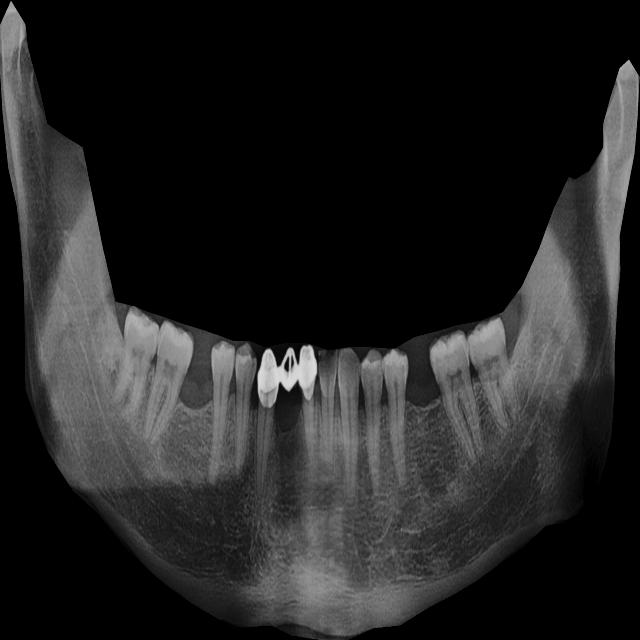mandibula: (0, 0, 640, 640)
